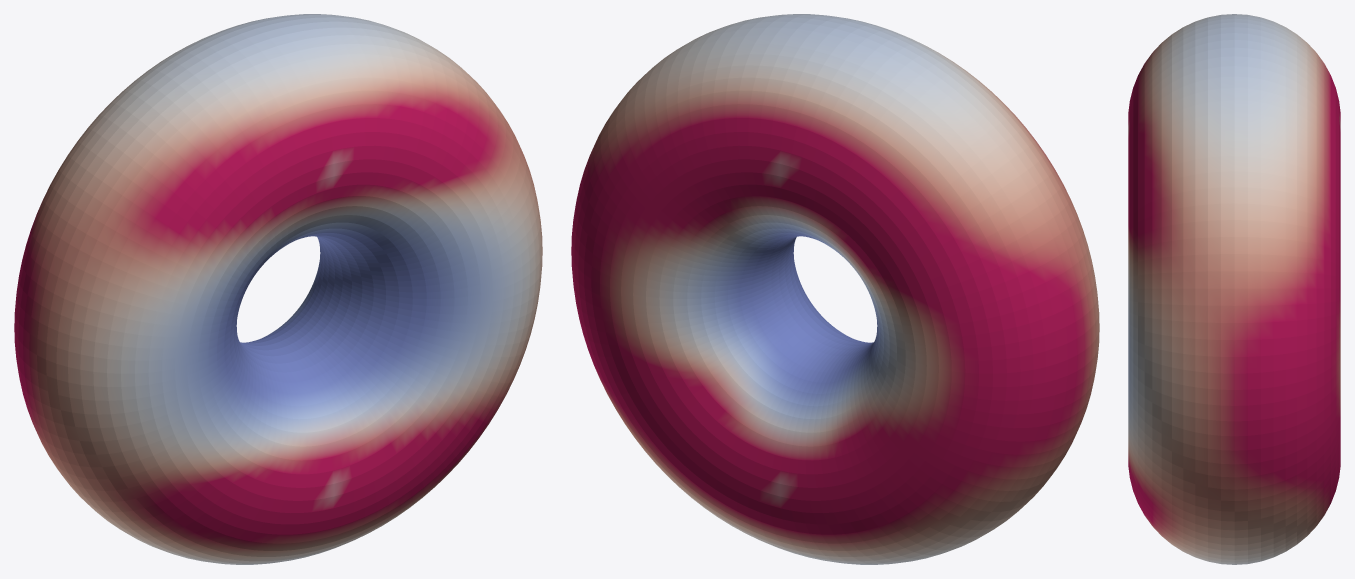
3 views of the same model, side by side, from view 1: azimuth 30°, elevation 25°; view 2: azimuth 150°, elevation 25°; view 3: azimuth 270°, elevation 25° (orthographic). The views are drawn at different scales.
Visible parts, largest first — view 1: world; view 2: world; view 3: world.
Boxes of the visible parts, box(x1,y1,x2,y2) form: world: box(14, 14, 542, 564); world: box(571, 14, 1099, 564); world: box(1128, 14, 1340, 564).
Size of the model in its own units: 21.73 by 21.73 by 8.38.
